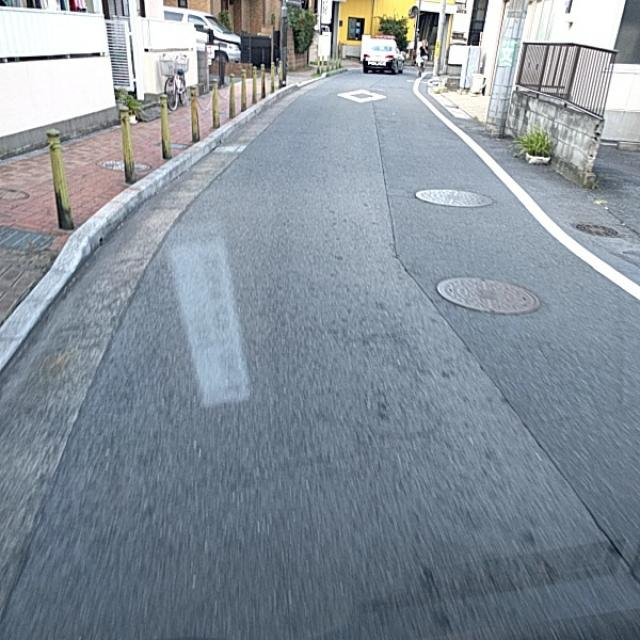pothole: (392, 312, 503, 394)
